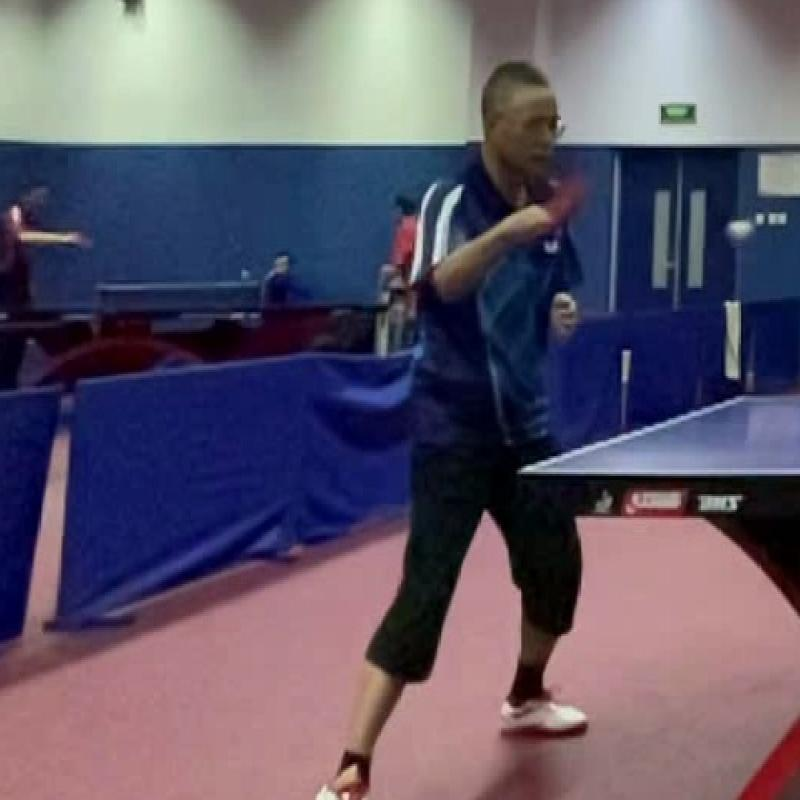bats: (528, 164, 600, 246)
